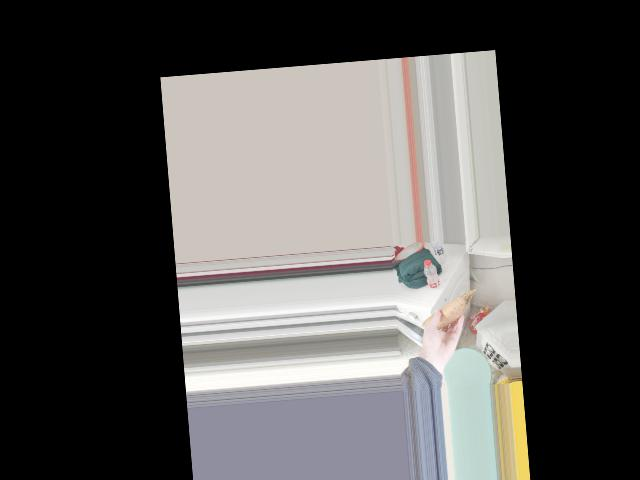sweet_potato: (426, 299, 464, 327)
